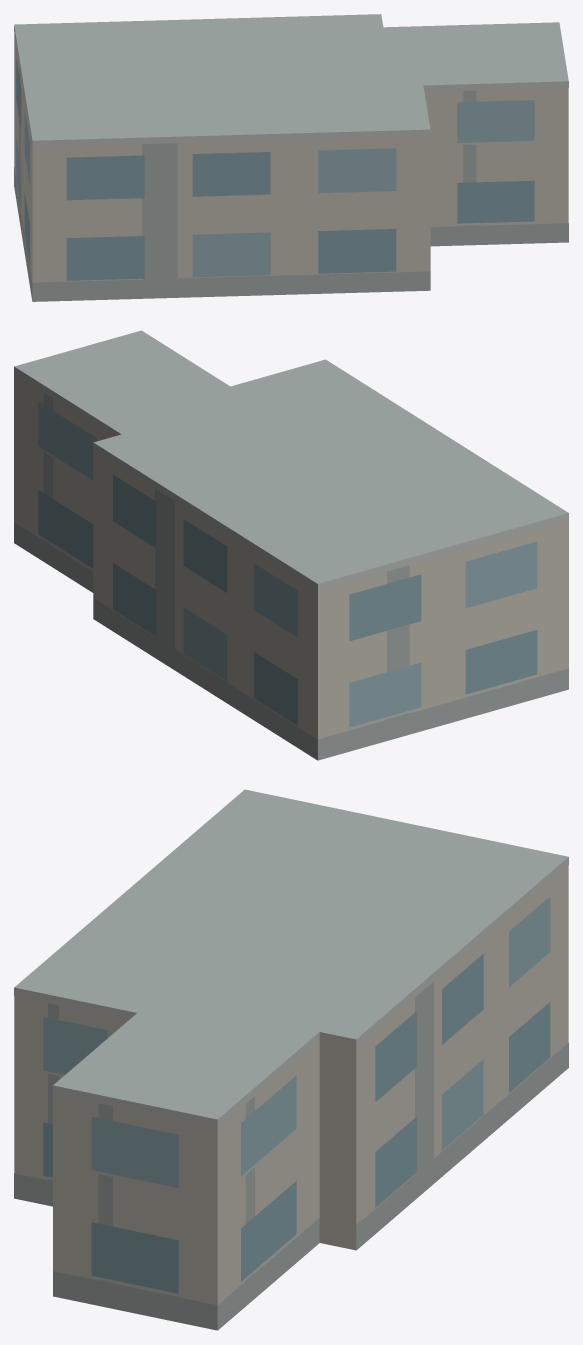
The model's file is residential-908fc5c2-1795-4c31-8578-9e1bed15ff56.glb.
The picture shows the model from 3 angles, top to bottom: view 1: azimuth 30°, elevation 25°; view 2: azimuth 150°, elevation 25°; view 3: azimuth 270°, elevation 25°; orthographic projection. The views are drawn at different scales.
Visible parts, largest first — view 1: residential-908fc5c2-1795-4c31-8578-9e1bed15ff56.tmp; view 2: residential-908fc5c2-1795-4c31-8578-9e1bed15ff56.tmp; view 3: residential-908fc5c2-1795-4c31-8578-9e1bed15ff56.tmp.
Boxes of the visible parts, x1,y1,x2,y2 form: residential-908fc5c2-1795-4c31-8578-9e1bed15ff56.tmp: (14, 14, 568, 301); residential-908fc5c2-1795-4c31-8578-9e1bed15ff56.tmp: (14, 330, 568, 760); residential-908fc5c2-1795-4c31-8578-9e1bed15ff56.tmp: (14, 789, 568, 1330).
Bounding box in the file's own units: 20.14 × 6 × 14.3.
